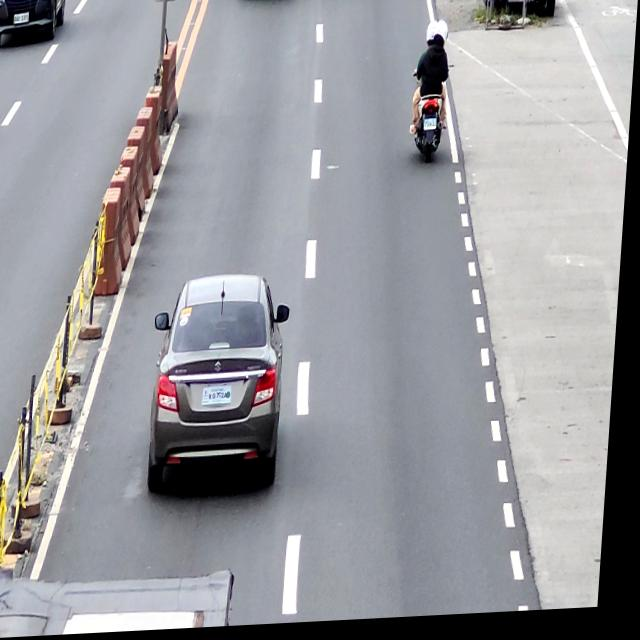Car: (151, 274, 296, 501)
License-Plate: (207, 389, 239, 409), (424, 123, 439, 135)
Motorcycle: (413, 75, 451, 165)
